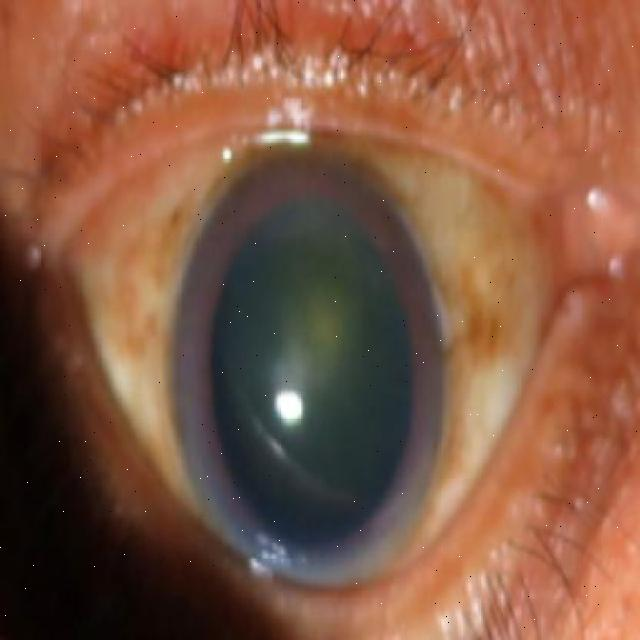Cataract: (166, 147, 457, 592)
